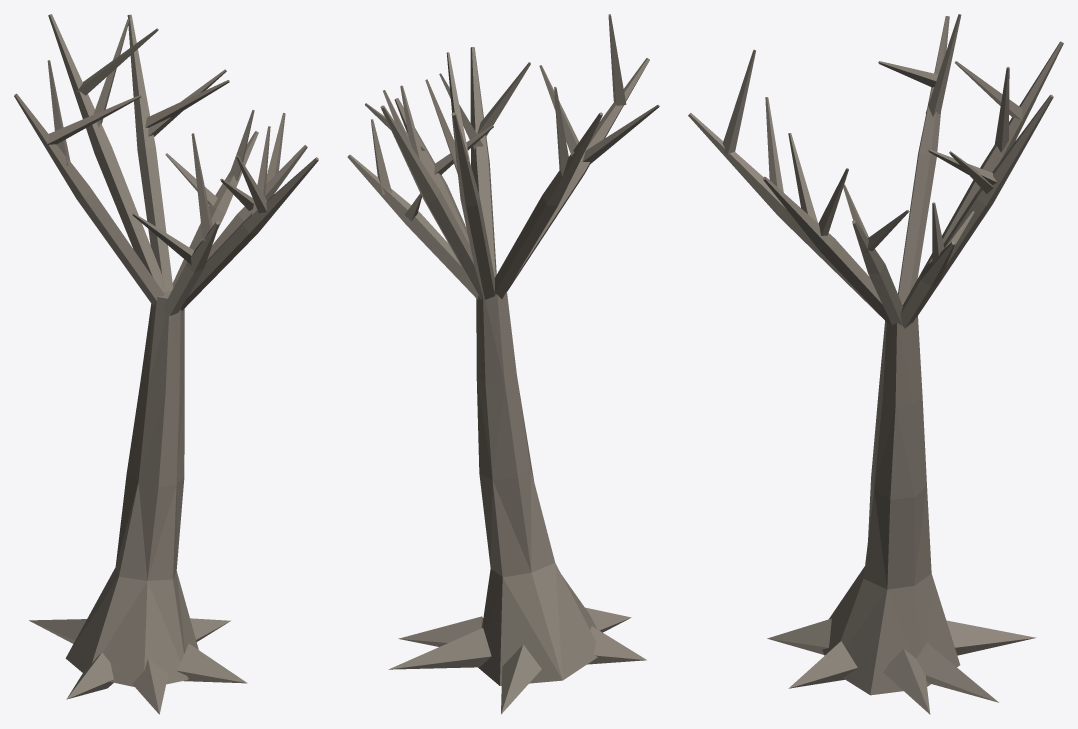
Rendered from HS_LP_Tree_DeadOak_01.fbx.
The picture shows the model from 3 angles, left to right: view 1: azimuth 30°, elevation 25°; view 2: azimuth 150°, elevation 25°; view 3: azimuth 270°, elevation 25°; orthographic projection. The views are drawn at different scales.
Parts seen in each view (by area): view 1: HS_LP_Tree_DeadOak_01; view 2: HS_LP_Tree_DeadOak_01; view 3: HS_LP_Tree_DeadOak_01.
Boxes of the visible parts, bbox=[...] form: HS_LP_Tree_DeadOak_01: bbox=[14, 14, 318, 714]; HS_LP_Tree_DeadOak_01: bbox=[347, 14, 659, 714]; HS_LP_Tree_DeadOak_01: bbox=[688, 14, 1063, 714].
Bounding box in the file's own units: 205 × 472 × 254.
